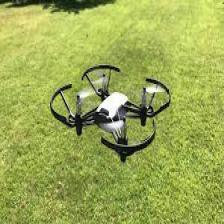drone: (50, 64, 167, 162)
